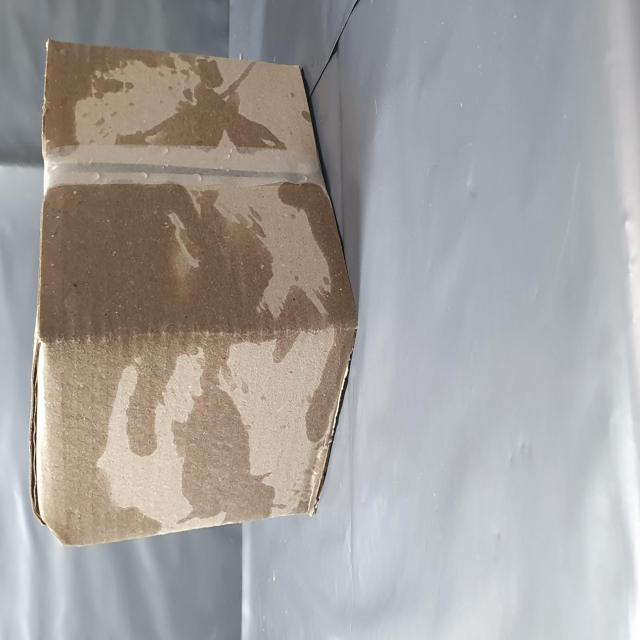wet: (50, 45, 342, 638)
